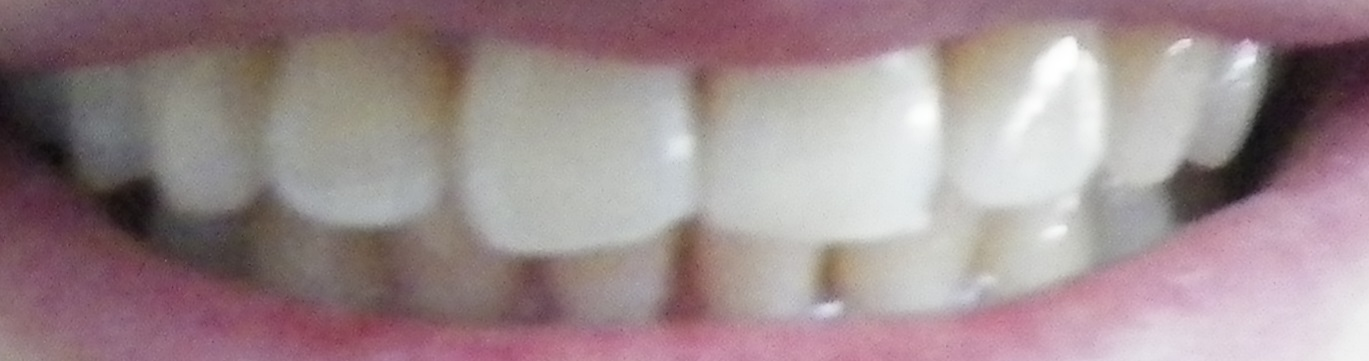boca: (37, 38, 1289, 311)
